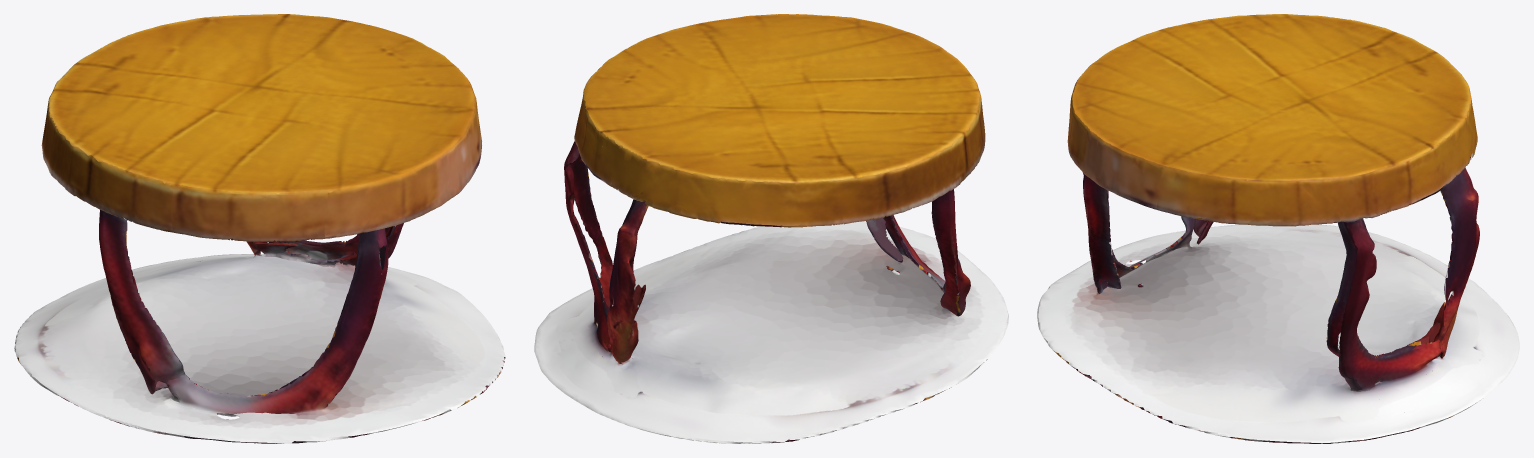
File: Furniture_table.glb
The picture shows the model from 3 angles, left to right: view 1: azimuth 30°, elevation 25°; view 2: azimuth 150°, elevation 25°; view 3: azimuth 270°, elevation 25°; orthographic projection. The views are drawn at different scales.
Visible parts, largest first — view 1: tmp9g_7m301.ply; view 2: tmp9g_7m301.ply; view 3: tmp9g_7m301.ply.
Boxes of the visible parts, x1,y1,x2,y2 form: tmp9g_7m301.ply: (14, 14, 505, 443); tmp9g_7m301.ply: (534, 14, 1008, 443); tmp9g_7m301.ply: (1037, 14, 1519, 443).
Bounding box in the file's own units: 1.92 × 1.13 × 1.99.
1 material, 1 textured.
